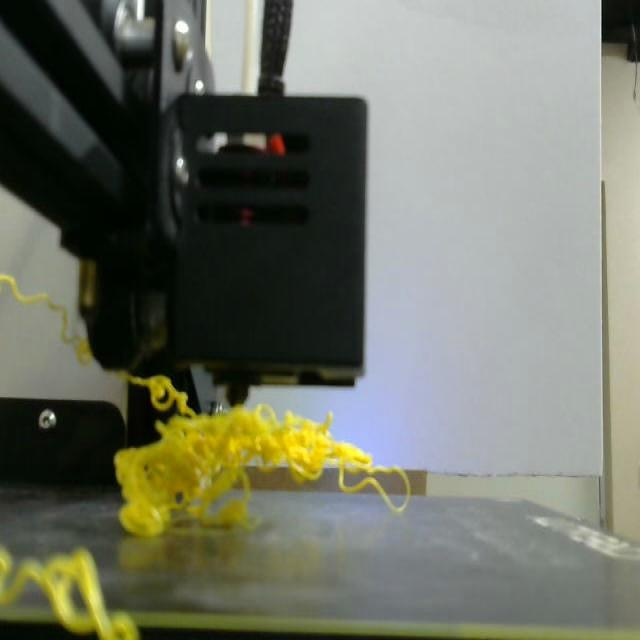spaghetti: (115, 373, 410, 536), (0, 548, 139, 638), (0, 276, 91, 362)
